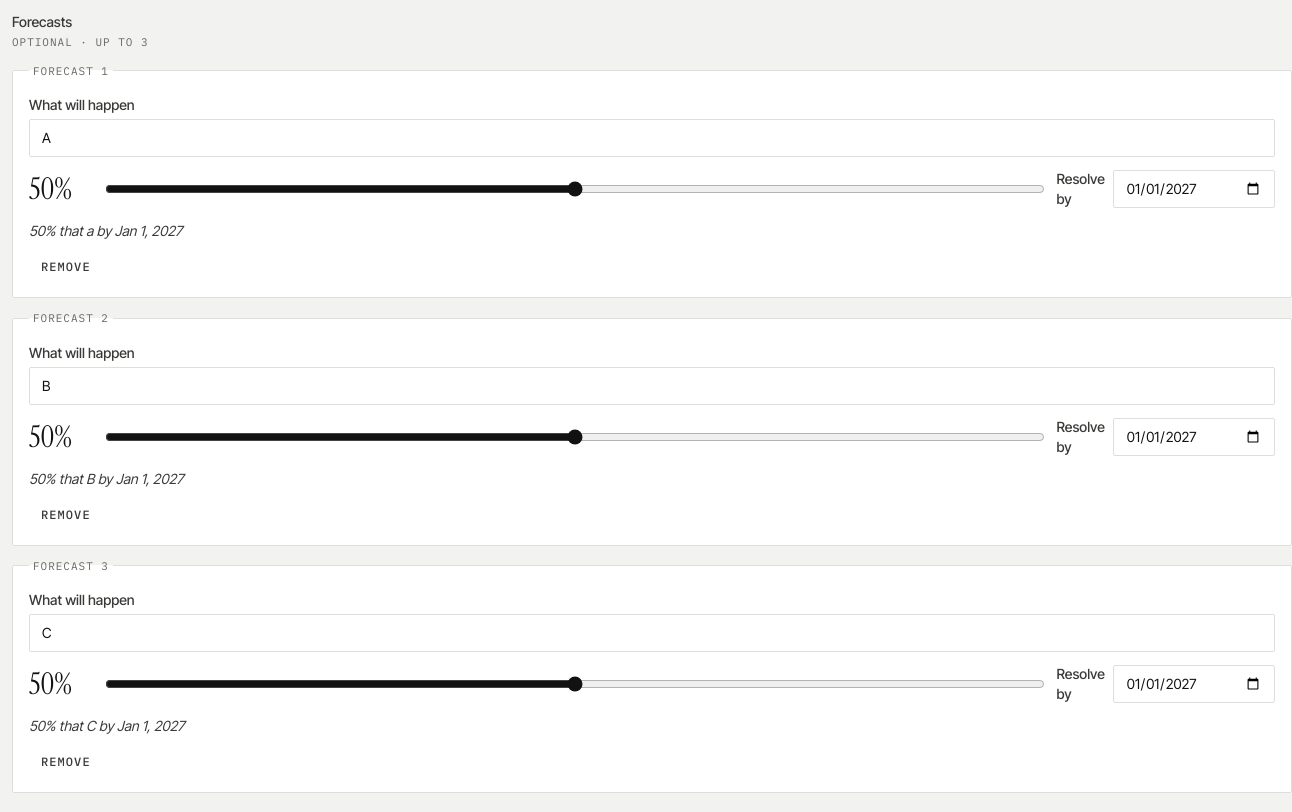
Test: ForecastFields › stops at three and renumbers after a removal
Check: the button "Add a forecast" is not shown
Click the button "Remove" below "50% that B by Jan 1, 2027" at x=66, y=514, box left=29, top=500, right=103, bottom=528
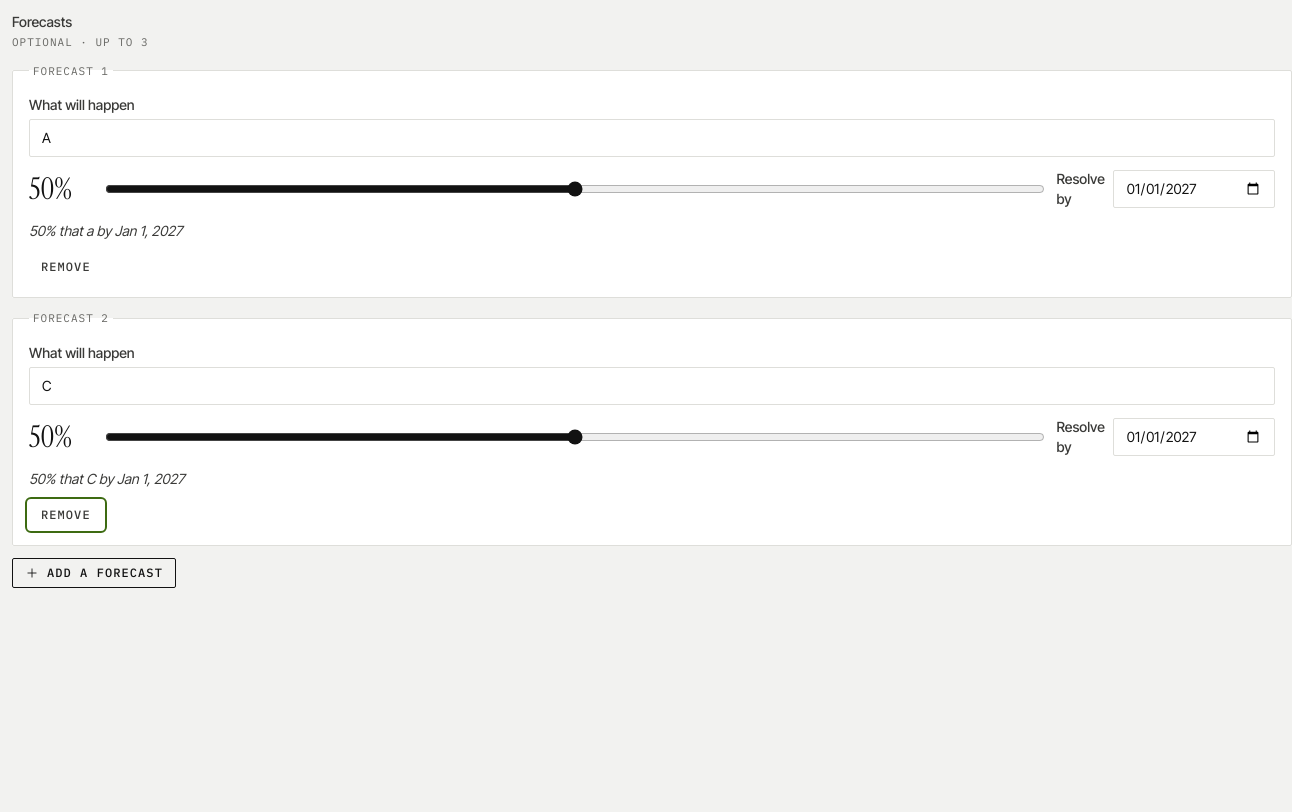
Check: the button "Add a forecast" is shown, box left=12, top=558, right=176, bottom=588
